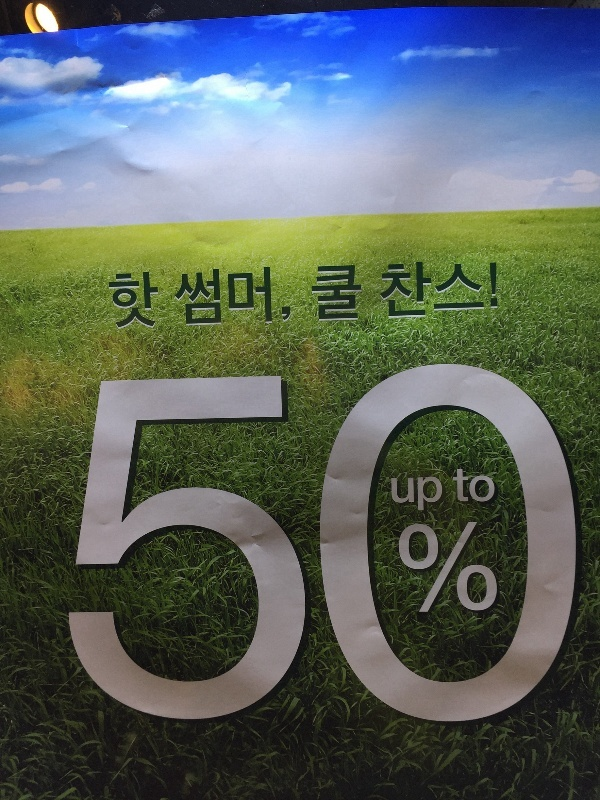text: (113, 358, 128, 726), (129, 358, 144, 726), (145, 358, 160, 726), (161, 358, 176, 726), (177, 358, 192, 726), (193, 358, 208, 726), (209, 358, 224, 726), (225, 358, 240, 726), (241, 358, 256, 726), (257, 358, 272, 726), (273, 358, 288, 726), (289, 358, 304, 726), (305, 358, 320, 726), (321, 358, 336, 726), (337, 358, 352, 726), (353, 358, 368, 726), (369, 358, 384, 726), (385, 358, 400, 726), (401, 358, 416, 726), (417, 358, 432, 726), (433, 358, 448, 726), (449, 358, 464, 726), (465, 358, 480, 726), (481, 358, 496, 726), (497, 358, 512, 726), (513, 358, 528, 726), (529, 358, 544, 726), (545, 358, 560, 726), (561, 358, 576, 726), (101, 358, 112, 726), (401, 516, 416, 623), (417, 516, 432, 623), (433, 516, 448, 623), (449, 516, 464, 623), (465, 516, 480, 623), (481, 516, 496, 623), (113, 263, 128, 333), (129, 263, 144, 333), (145, 263, 160, 333), (161, 263, 176, 333), (177, 263, 192, 333), (193, 263, 208, 333), (209, 263, 224, 333), (225, 263, 240, 333), (241, 263, 256, 333), (257, 263, 272, 333), (273, 263, 288, 333), (321, 261, 336, 327), (337, 261, 352, 327), (353, 261, 368, 327), (369, 261, 384, 327), (385, 261, 400, 327), (401, 261, 416, 327), (417, 261, 432, 327), (433, 261, 448, 327), (449, 261, 464, 327), (465, 261, 480, 327), (481, 261, 496, 327), (577, 358, 579, 726), (401, 470, 416, 517), (417, 470, 432, 517), (465, 464, 480, 509), (481, 464, 496, 509), (311, 261, 320, 327), (451, 464, 464, 509), (433, 470, 444, 517), (390, 470, 400, 517), (108, 263, 112, 333), (289, 263, 292, 333), (497, 261, 500, 327), (399, 516, 400, 623), (497, 516, 498, 623)
